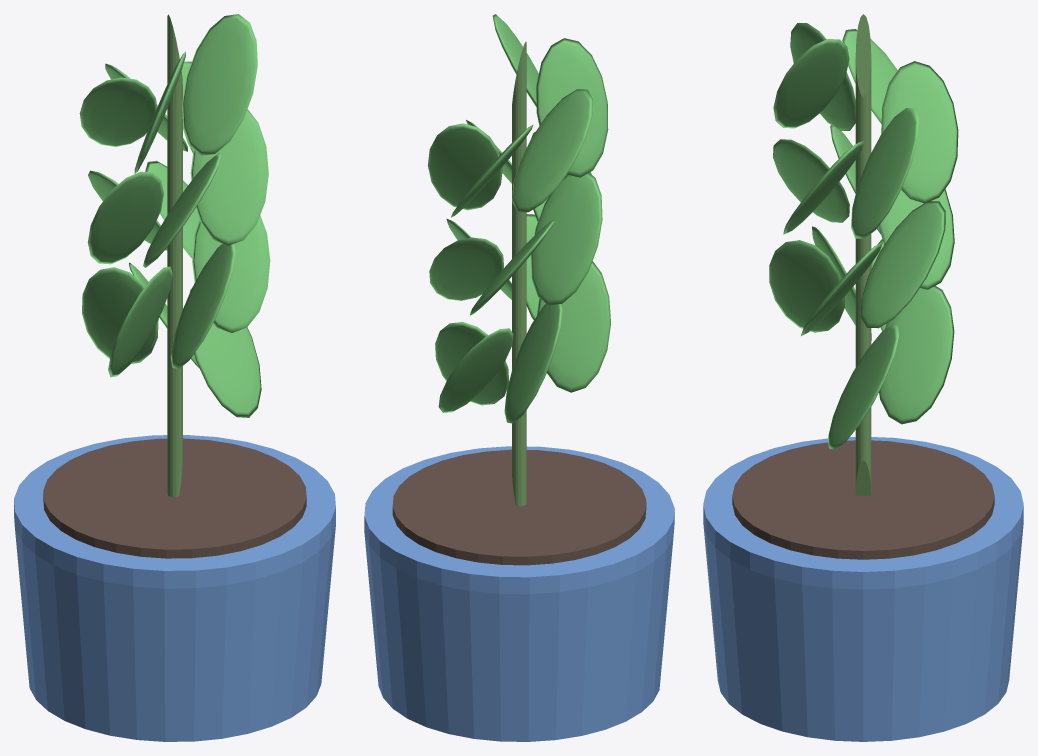
3 renders of one model, left to right at view 1: azimuth 30°, elevation 25°; view 2: azimuth 150°, elevation 25°; view 3: azimuth 270°, elevation 25°, orthographic. The views are drawn at different scales.
Visible parts, largest first — view 1: Pot_Complete, Leaves, Soil, Stem; view 2: Pot_Complete, Leaves, Soil, Stem; view 3: Pot_Complete, Leaves, Soil, Stem.
Boxes of the visible parts, x1,y1,x2,y2 form: Pot_Complete: [14, 435, 335, 741]; Leaves: [79, 14, 270, 417]; Soil: [43, 438, 306, 558]; Stem: [167, 14, 182, 497]; Pot_Complete: [364, 446, 674, 741]; Leaves: [427, 14, 610, 423]; Soil: [392, 449, 646, 565]; Stem: [512, 41, 526, 506]; Pot_Complete: [703, 437, 1023, 741]; Leaves: [769, 23, 958, 449]; Soil: [732, 440, 994, 559]; Stem: [855, 14, 871, 495].
Bounding box in the file's own units: 0.33 × 0.7538 × 0.33.
